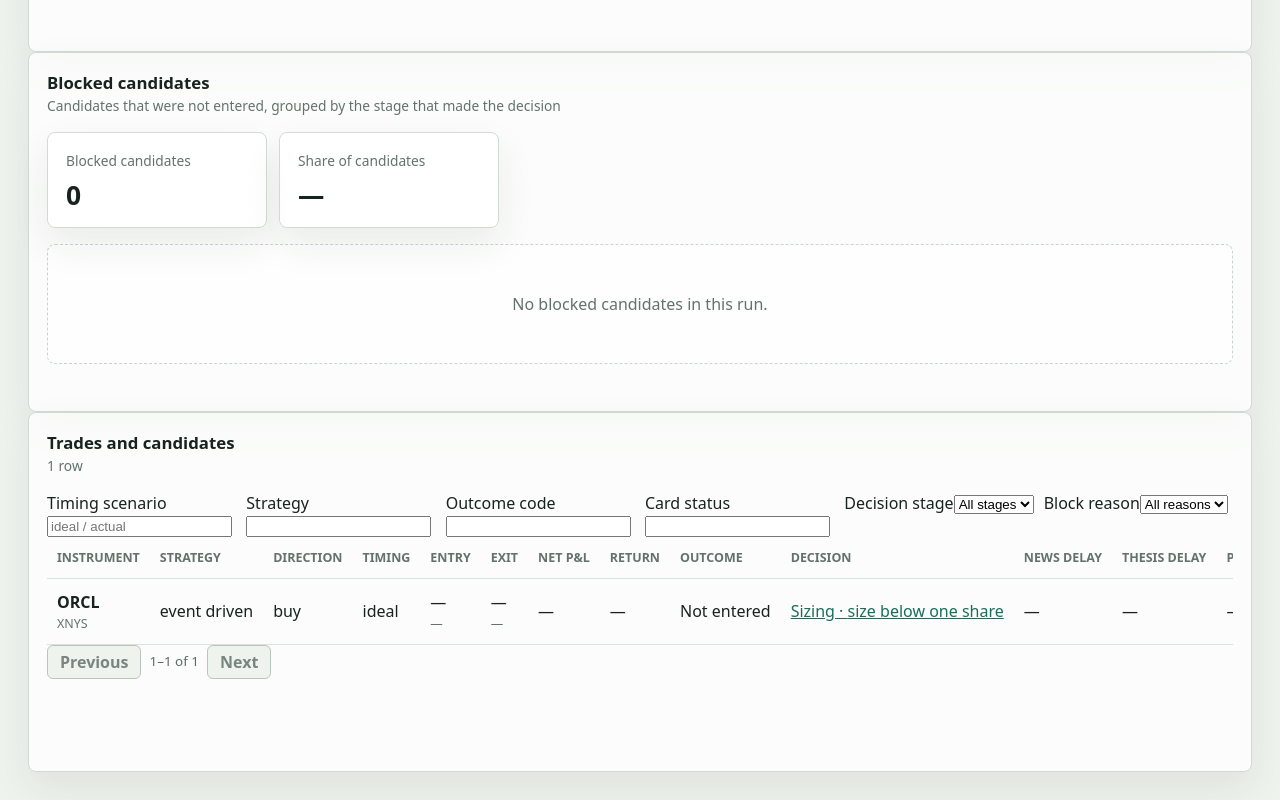
Scenario: BacktesterTab › explains portfolio headroom as the blocking sizing constraint in plain language
(page scrolled)
Click the button "Sizing · size below one share" at [897, 611], box [791,600,1004,622]
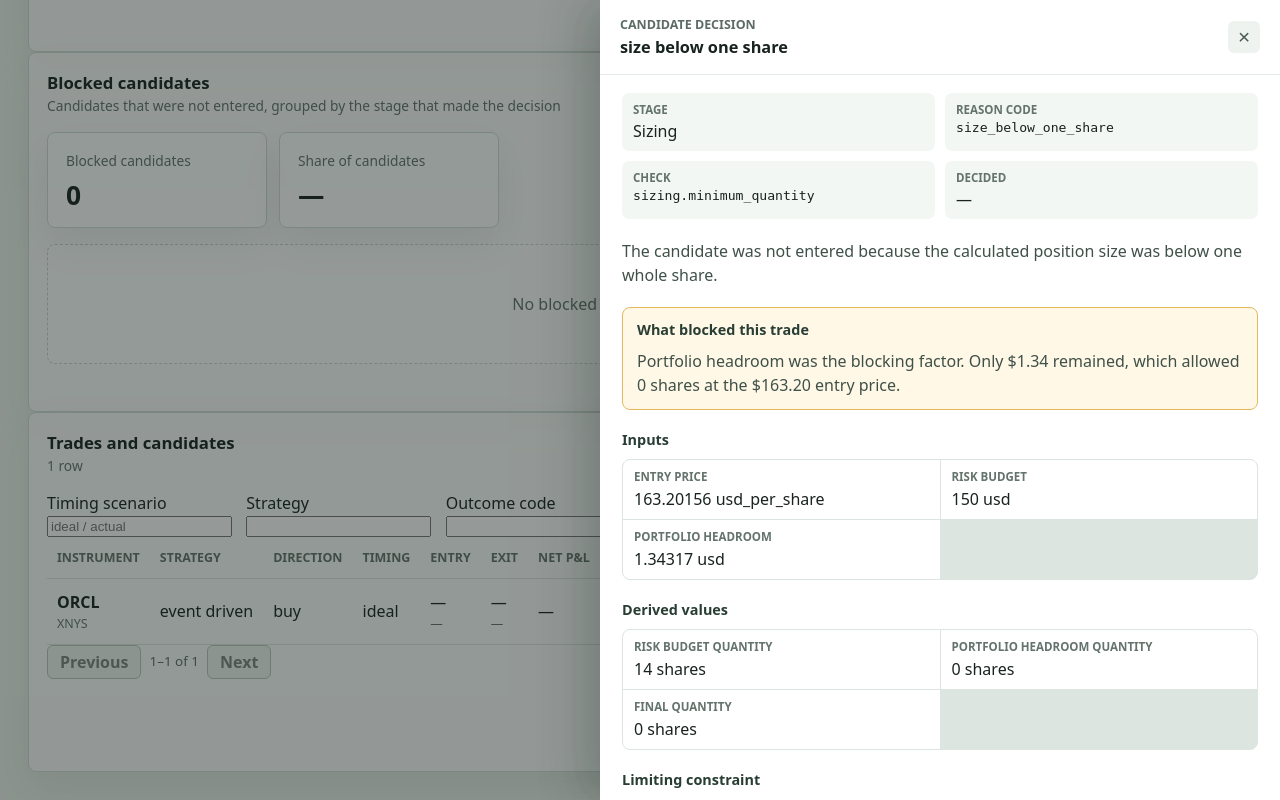
Now the dialog named "Blocked candidate explanation" shows "Portfolio headroom was the blocking factor", box [637,350,1240,396]
Now the dialog named "Blocked candidate explanation" shows "Limiting constraint", box [622,770,760,789]
Now the dialog named "Blocked candidate explanation" shows "Portfolio headroom", box [634,529,772,544]
